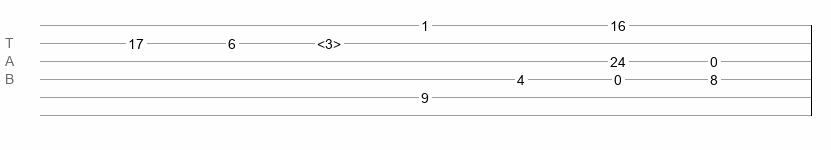0: (614, 72, 622, 82), (710, 54, 718, 64)
1: (421, 18, 429, 28)
16: (610, 18, 626, 28)
17: (128, 36, 144, 46)
24: (610, 54, 626, 64)
4: (517, 72, 525, 82)
6: (228, 36, 236, 46)
8: (710, 72, 718, 82)
9: (421, 90, 429, 100)
harmonic: (317, 36, 341, 46)
